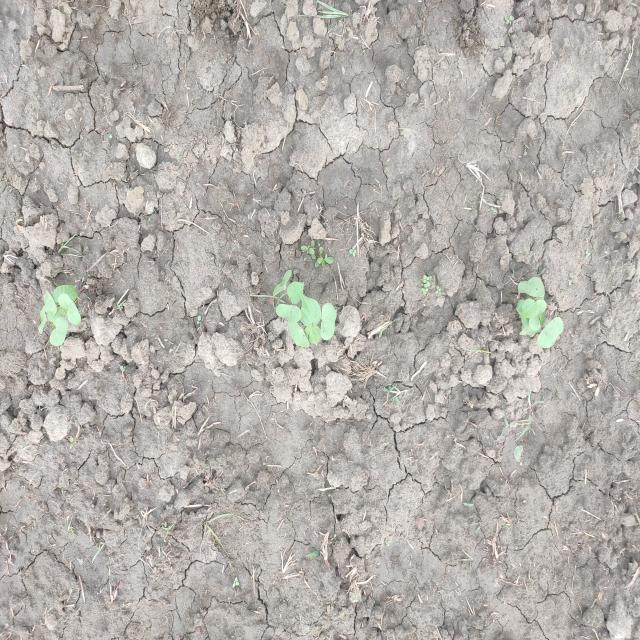seedling_s4: (537, 317, 564, 348), (58, 293, 82, 325), (300, 294, 321, 327), (321, 302, 337, 340), (288, 321, 309, 348), (518, 277, 545, 297), (50, 317, 68, 346), (273, 269, 292, 296), (276, 303, 301, 323), (53, 285, 78, 303), (521, 298, 538, 323), (287, 282, 304, 304), (43, 291, 57, 317), (47, 306, 65, 326), (305, 325, 320, 346), (38, 306, 47, 335), (529, 315, 540, 331), (535, 299, 546, 314), (539, 312, 546, 325)
